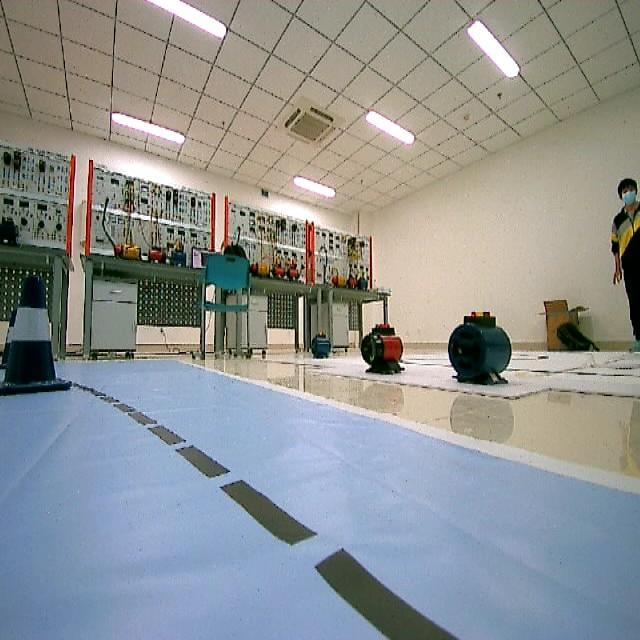obstacle: (0, 274, 74, 409)
